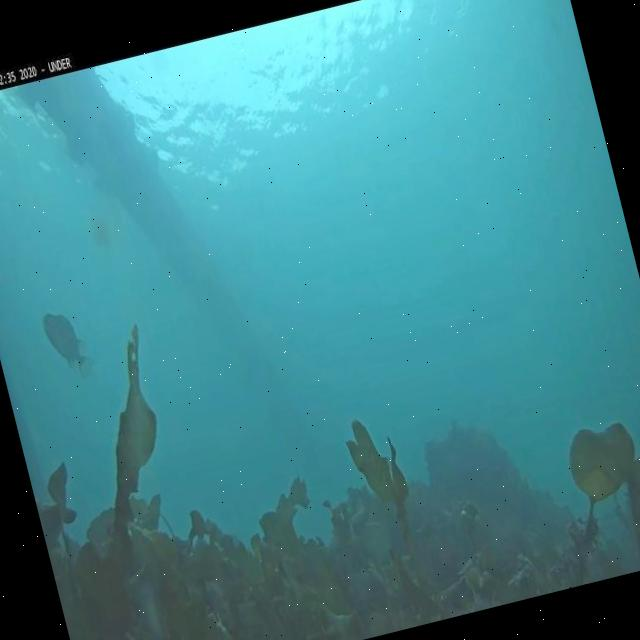fish: (38, 304, 97, 384)
